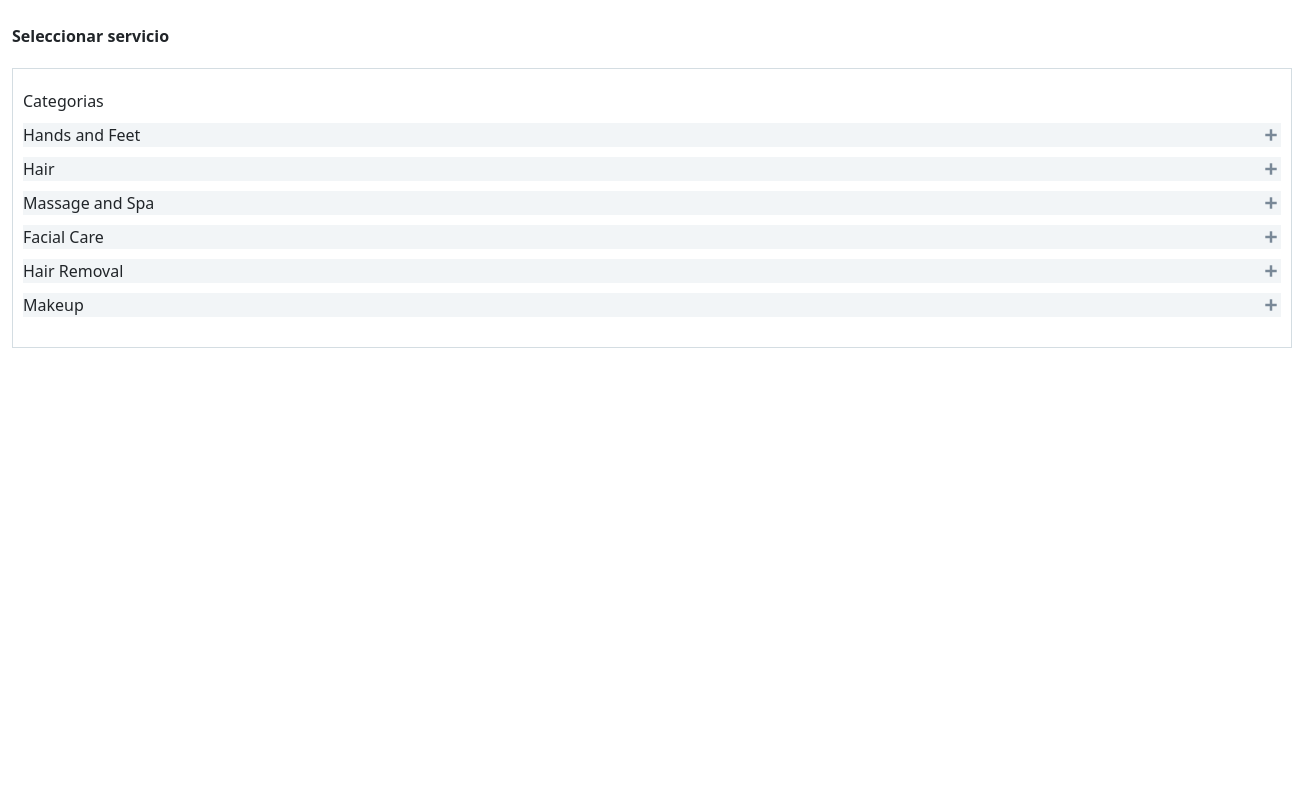
Test: CategoryList component › clicking 'Select' button after clicking 'Add' icon displays 'Confirm' button
What coordinates should you click on to do the following:
click the text "add" in the row of "Hands and Feet"
I would click on:
 (1271, 135)
Its box is [1261,125,1281,145].
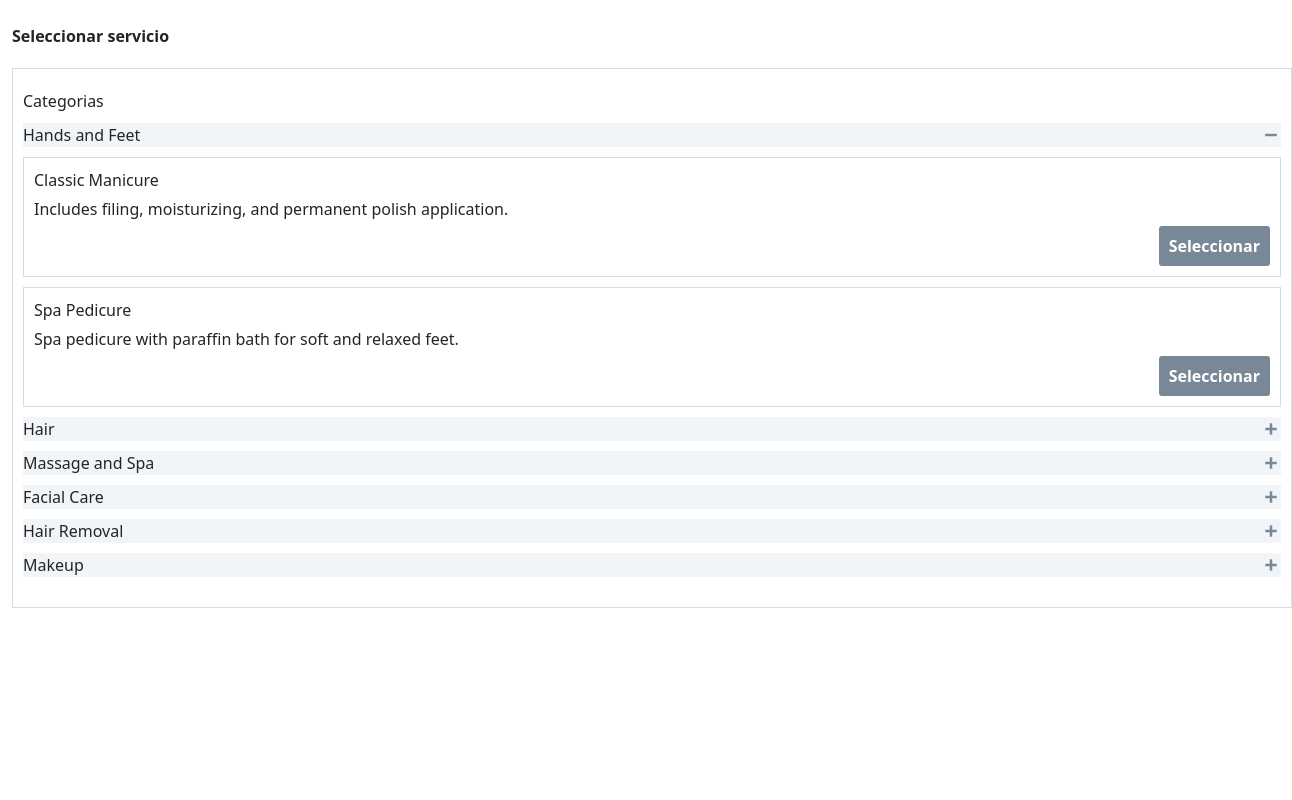
What coordinates should you click on to do the following:
click the 1st button "Seleccionar"
I would click on:
 (1214, 246)
Its box is [1159,226,1270,266].
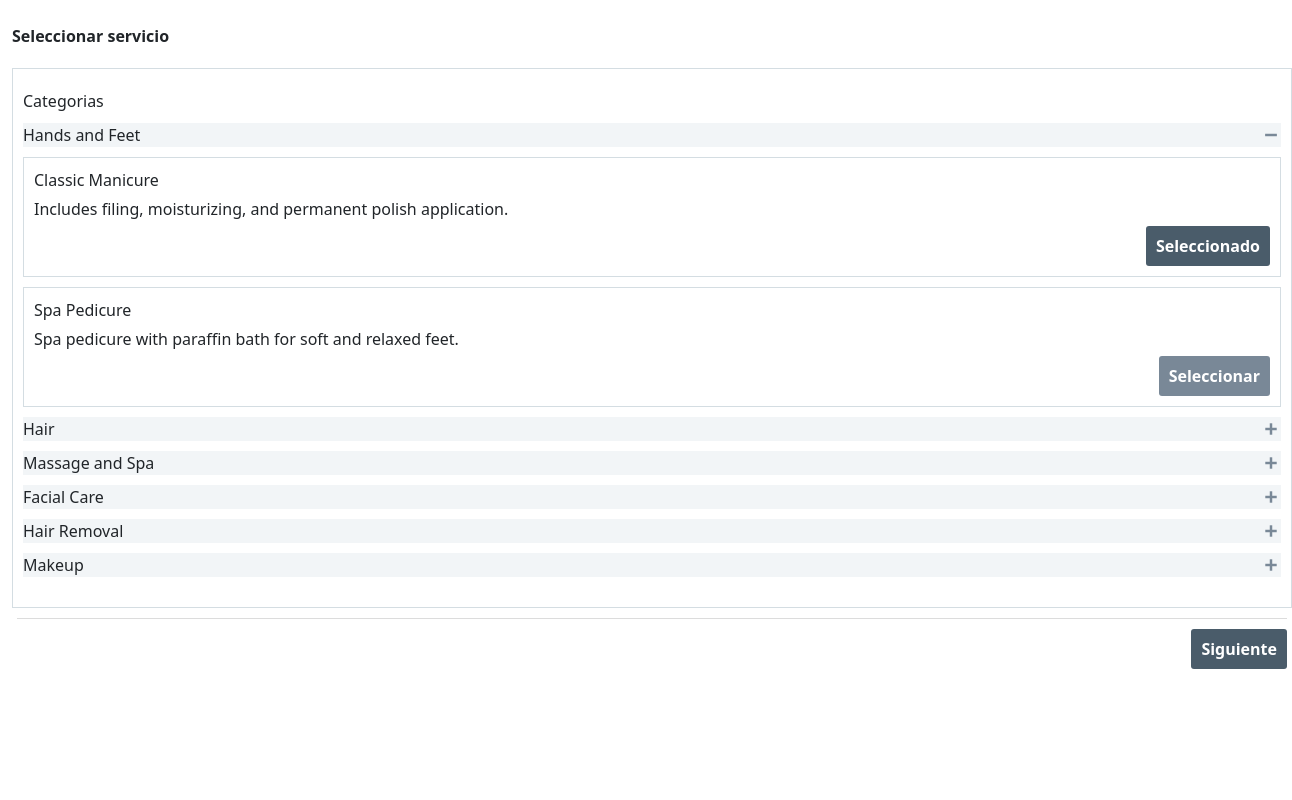
Result: the button "Siguiente" is shown at [1191,629,1287,669]
